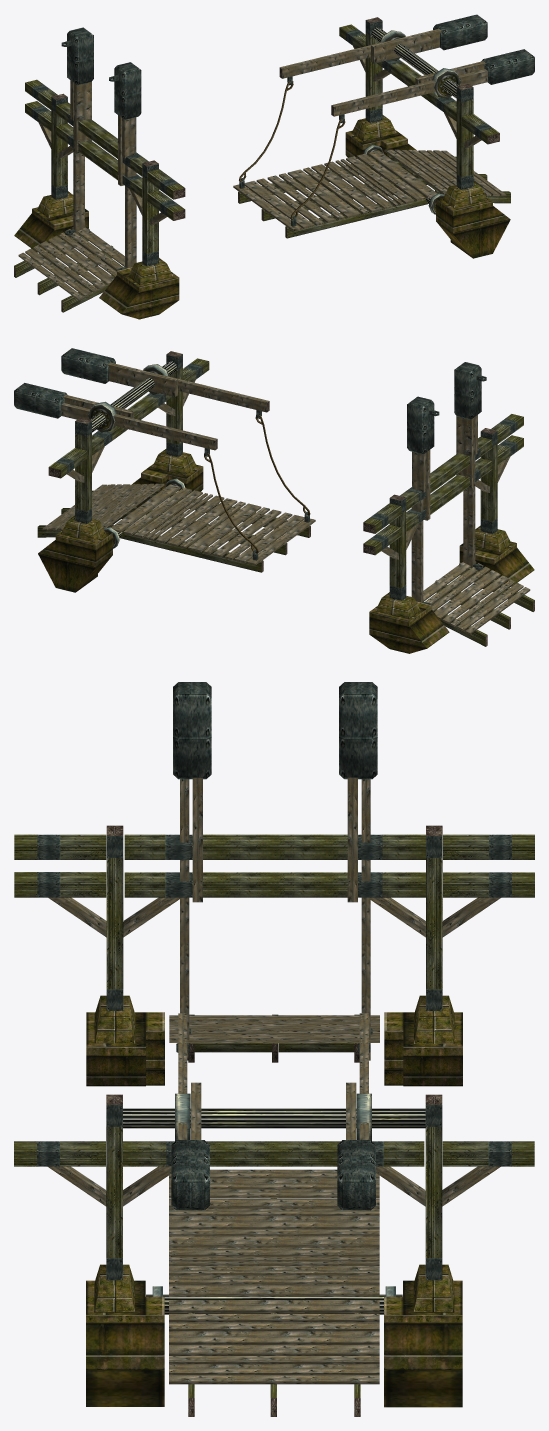
File: BRIDGE_STATIC.fbx
The picture shows the model from 3 angles, top to bottom: view 1: azimuth 30°, elevation 25°; view 2: azimuth 150°, elevation 25°; view 3: azimuth 270°, elevation 25°; orthographic projection. The views are drawn at different scales.
Parts seen in each view (by area): view 1: BRIDGE_STATIC; view 2: BRIDGE_STATIC; view 3: BRIDGE_STATIC.
Boxes of the visible parts, <box> form: BRIDGE_STATIC: <box>14,14,534,319</box>; BRIDGE_STATIC: <box>14,348,534,653</box>; BRIDGE_STATIC: <box>14,682,534,1416</box>.
Size of the model in its own units: 391674 by 197000 by 215015.
11 materials, 11 textured.
